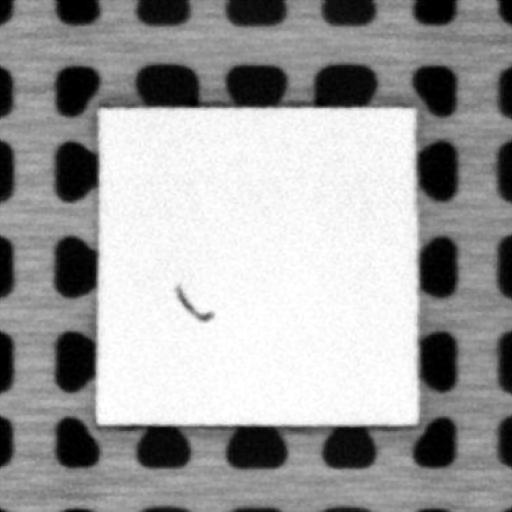DIE_INK: (173, 285, 213, 323)
